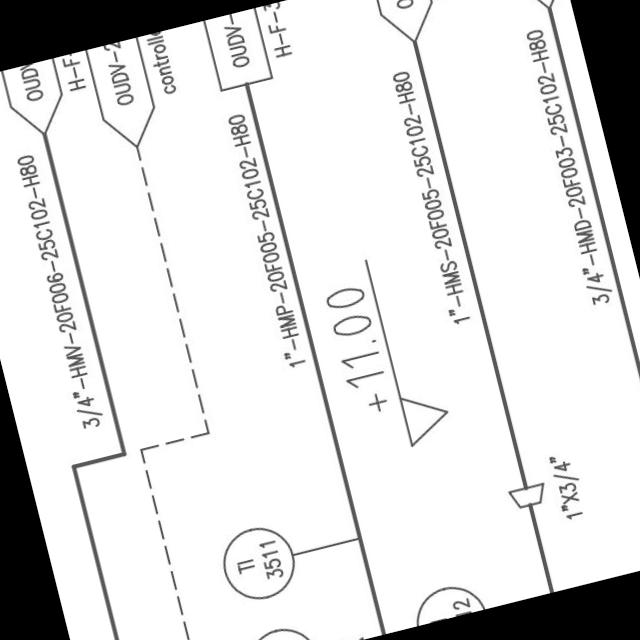SP: (502, 474, 554, 516)
